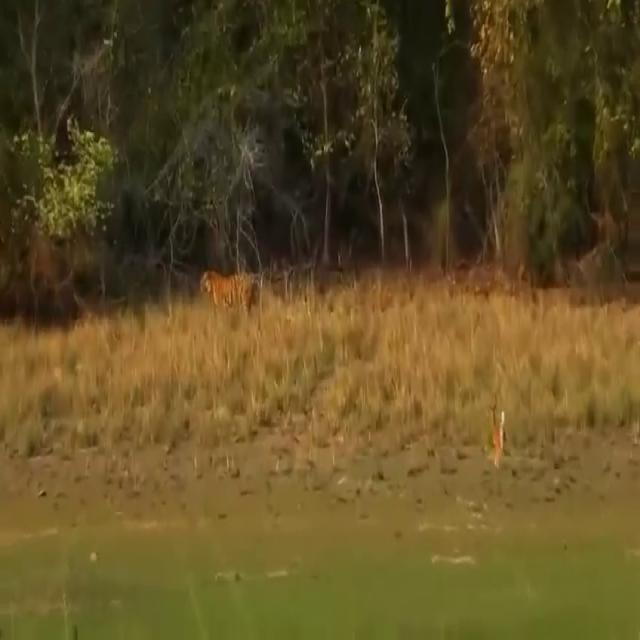tiger: (200, 270, 252, 316)
